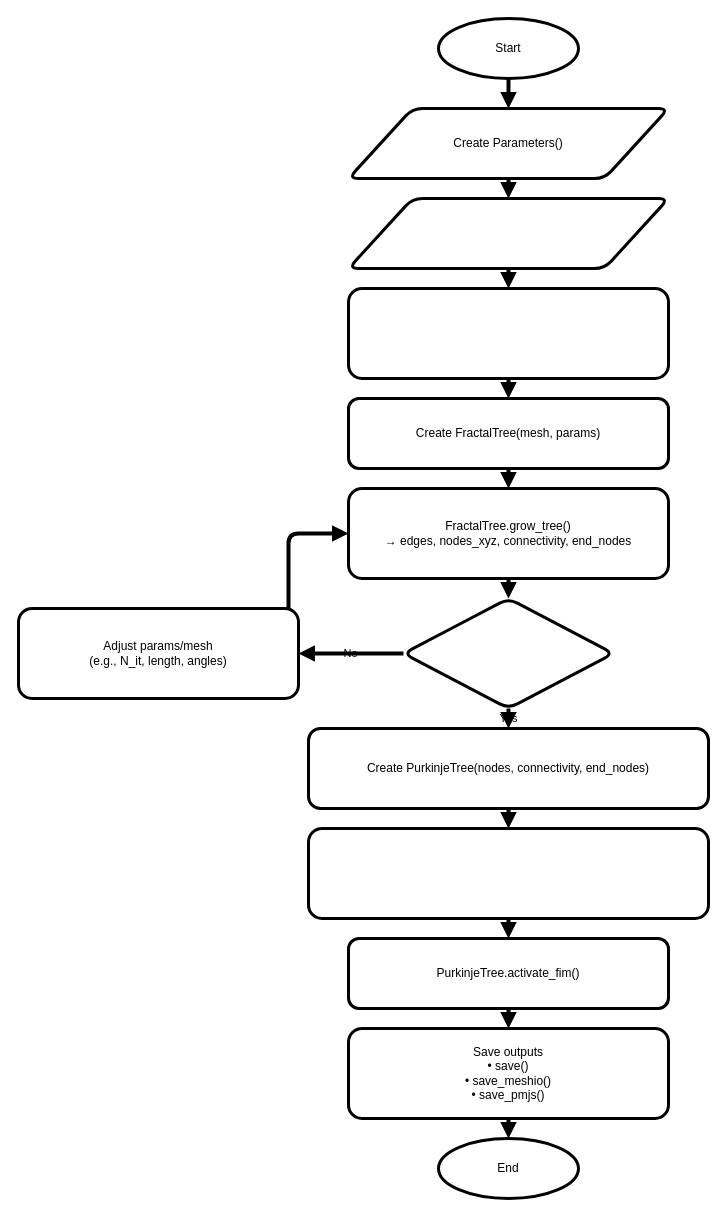
Some shapes in this 727 by 1217 pixel diagram are drawn without their labels. Here are the shapes that lost their labels. From the top down, the box of each, then its label:
(346, 196, 670, 270): Load Mesh file
(346, 286, 670, 380): Mesh preprocessing • detect_boundary() • compute_uvscaling()
(402, 596, 614, 710): Tree OK?
(306, 826, 710, 920): (optional) PMJ extraction • extract_pmj_np_unique() / _bincount() / _counter()
